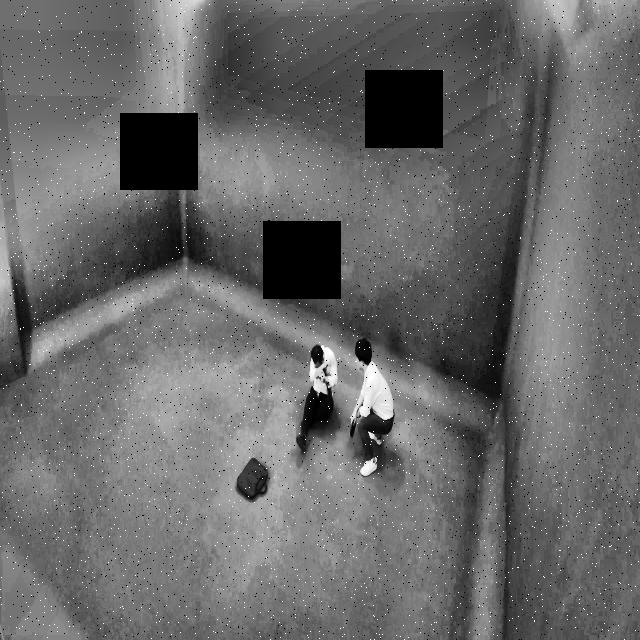assult: (298, 321, 395, 482), (297, 323, 341, 457)
